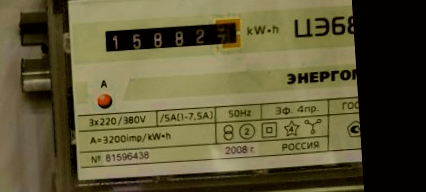1: (110, 32, 120, 49)
2: (194, 26, 205, 44)
5: (131, 31, 142, 48)
7: (216, 32, 226, 43)
8: (173, 28, 184, 46), (152, 31, 163, 47)
screen: (97, 12, 247, 61)
